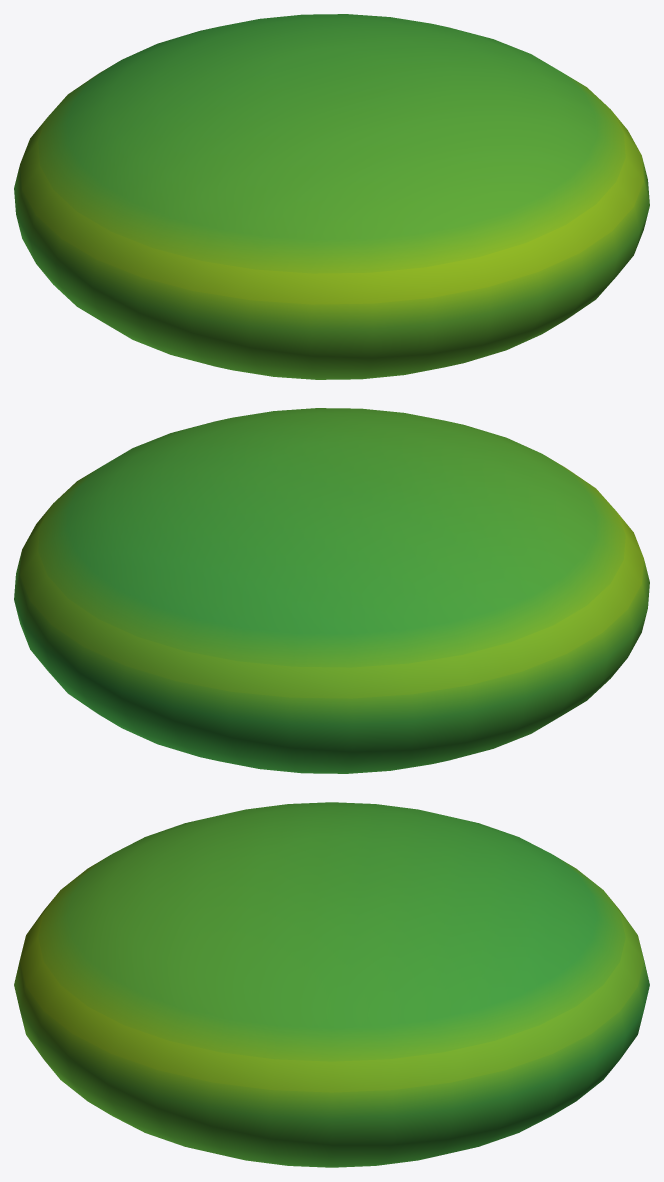
Rendered from Bonibon_05.fbx.
3 renders of one model, top to bottom at view 1: azimuth 30°, elevation 25°; view 2: azimuth 150°, elevation 25°; view 3: azimuth 270°, elevation 25°, orthographic.
Parts seen in each view (by area): view 1: Bonibon_05; view 2: Bonibon_05; view 3: Bonibon_05.
Boxes of the visible parts, bbox=[...] form: Bonibon_05: bbox=[14, 14, 649, 379]; Bonibon_05: bbox=[14, 408, 649, 773]; Bonibon_05: bbox=[14, 802, 649, 1167].
Size of the model in its own units: 113 by 47.58 by 113.
